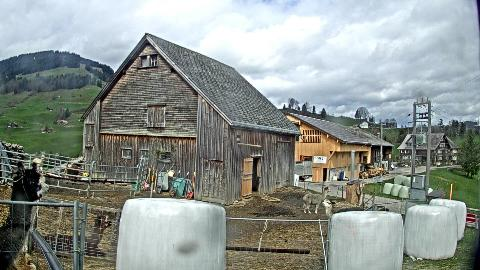car: (390, 162, 396, 172)
sheep: (0, 162, 50, 270), (38, 214, 112, 260), (322, 196, 366, 221), (304, 186, 332, 214), (64, 160, 80, 184), (33, 156, 45, 170), (252, 176, 260, 192)
